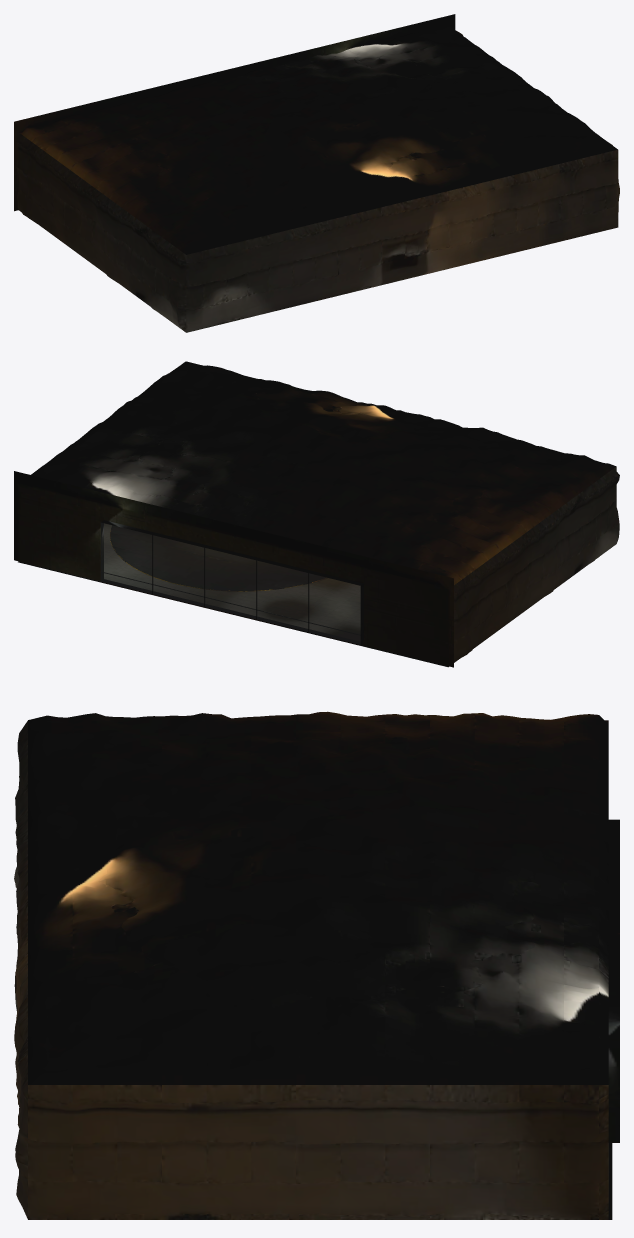
Rendered from room.glb.
The picture shows the model from 3 angles, top to bottom: view 1: azimuth 30°, elevation 25°; view 2: azimuth 150°, elevation 25°; view 3: azimuth 270°, elevation 25°; orthographic projection. The views are drawn at different scales.
Visible parts, largest first — view 1: room_shell; view 2: room_shell, room_floor; view 3: room_shell.
Part boxes in pixels (box(x1,y1,x2,y2)): room_shell: box(14, 14, 619, 332); room_shell: box(14, 361, 619, 667); room_floor: box(18, 523, 448, 667); room_shell: box(14, 711, 619, 1219).
Size of the model in its own units: 240 by 55.11 by 163.
5 materials, 4 textured.
